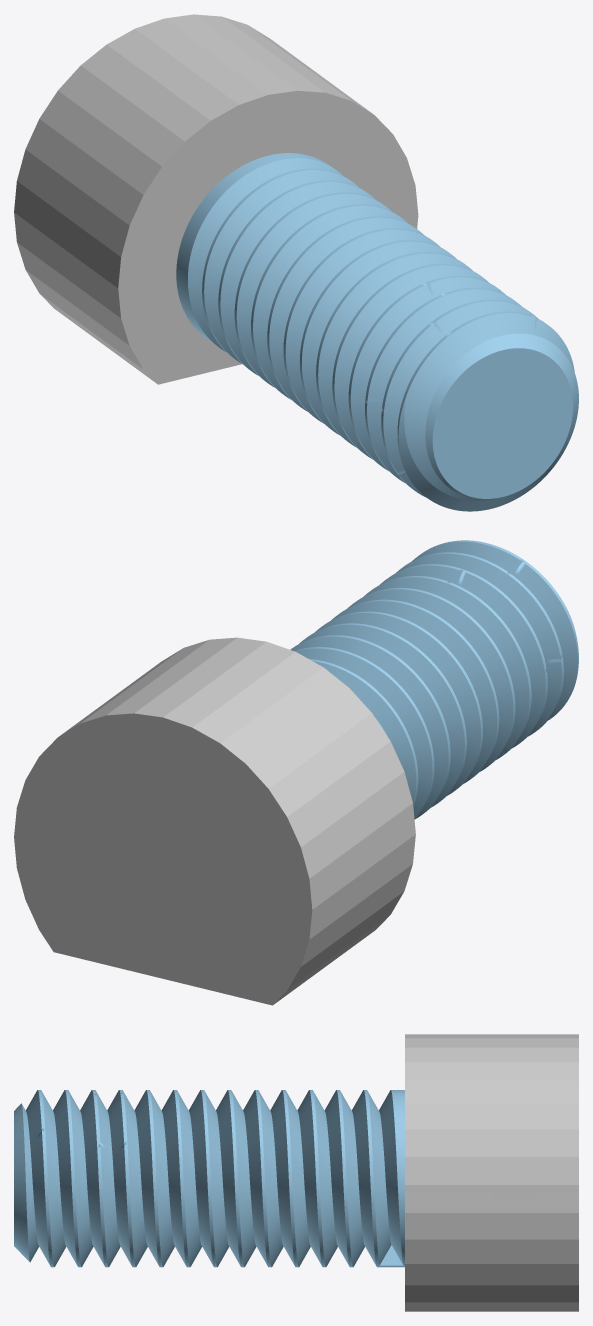
The model's file is bolt5.obj.
The picture shows the model from 3 angles, top to bottom: view 1: azimuth 30°, elevation 25°; view 2: azimuth 150°, elevation 25°; view 3: azimuth 270°, elevation 25°; orthographic projection. The views are drawn at different scales.
Visible parts, largest first — view 1: Cylinder_Cylinder.001, mesh4, mesh8, mesh3, mesh7; view 2: Cylinder_Cylinder.001, mesh5, mesh3; view 3: Cylinder_Cylinder.001, mesh4, mesh5, mesh3, mesh7.
Boxes of the visible parts, left/top/right/bottom form: Cylinder_Cylinder.001: left=14, top=14, right=418, bottom=384; mesh4: left=188, top=158, right=574, bottom=500; mesh8: left=432, top=348, right=572, bottom=498; mesh3: left=176, top=153, right=543, bottom=487; mesh7: left=398, top=333, right=578, bottom=511; Cylinder_Cylinder.001: left=14, top=637, right=415, bottom=1005; mesh5: left=290, top=542, right=577, bottom=819; mesh3: left=294, top=540, right=578, bottom=818; Cylinder_Cylinder.001: left=405, top=1034, right=578, bottom=1311; mesh4: left=26, top=1090, right=403, bottom=1265; mesh5: left=22, top=1091, right=391, bottom=1266; mesh3: left=38, top=1090, right=404, bottom=1267; mesh7: left=14, top=1103, right=29, bottom=1261.
Size of the model in its own units: 0.044 by 0.0368 by 0.086.
